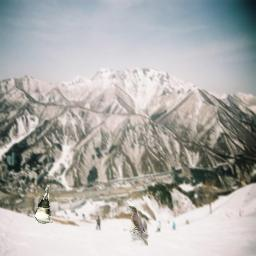Cuckoo: (129, 206, 148, 246), (34, 184, 53, 224)
